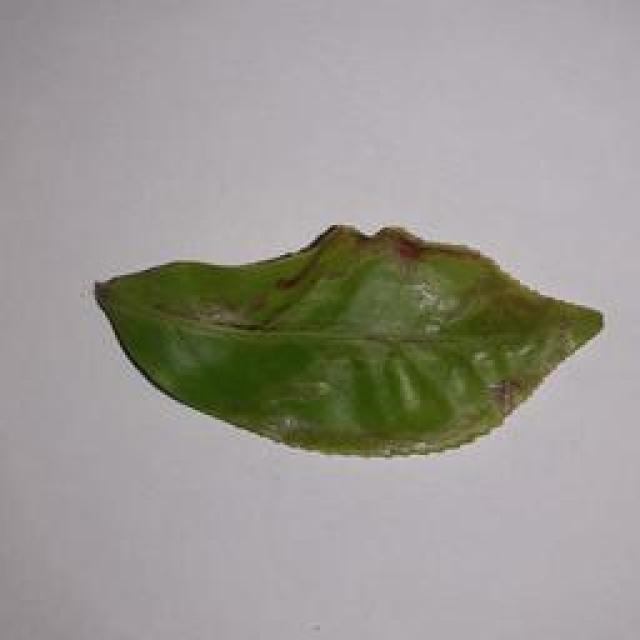Red Leaf Spot: (83, 197, 611, 462)
